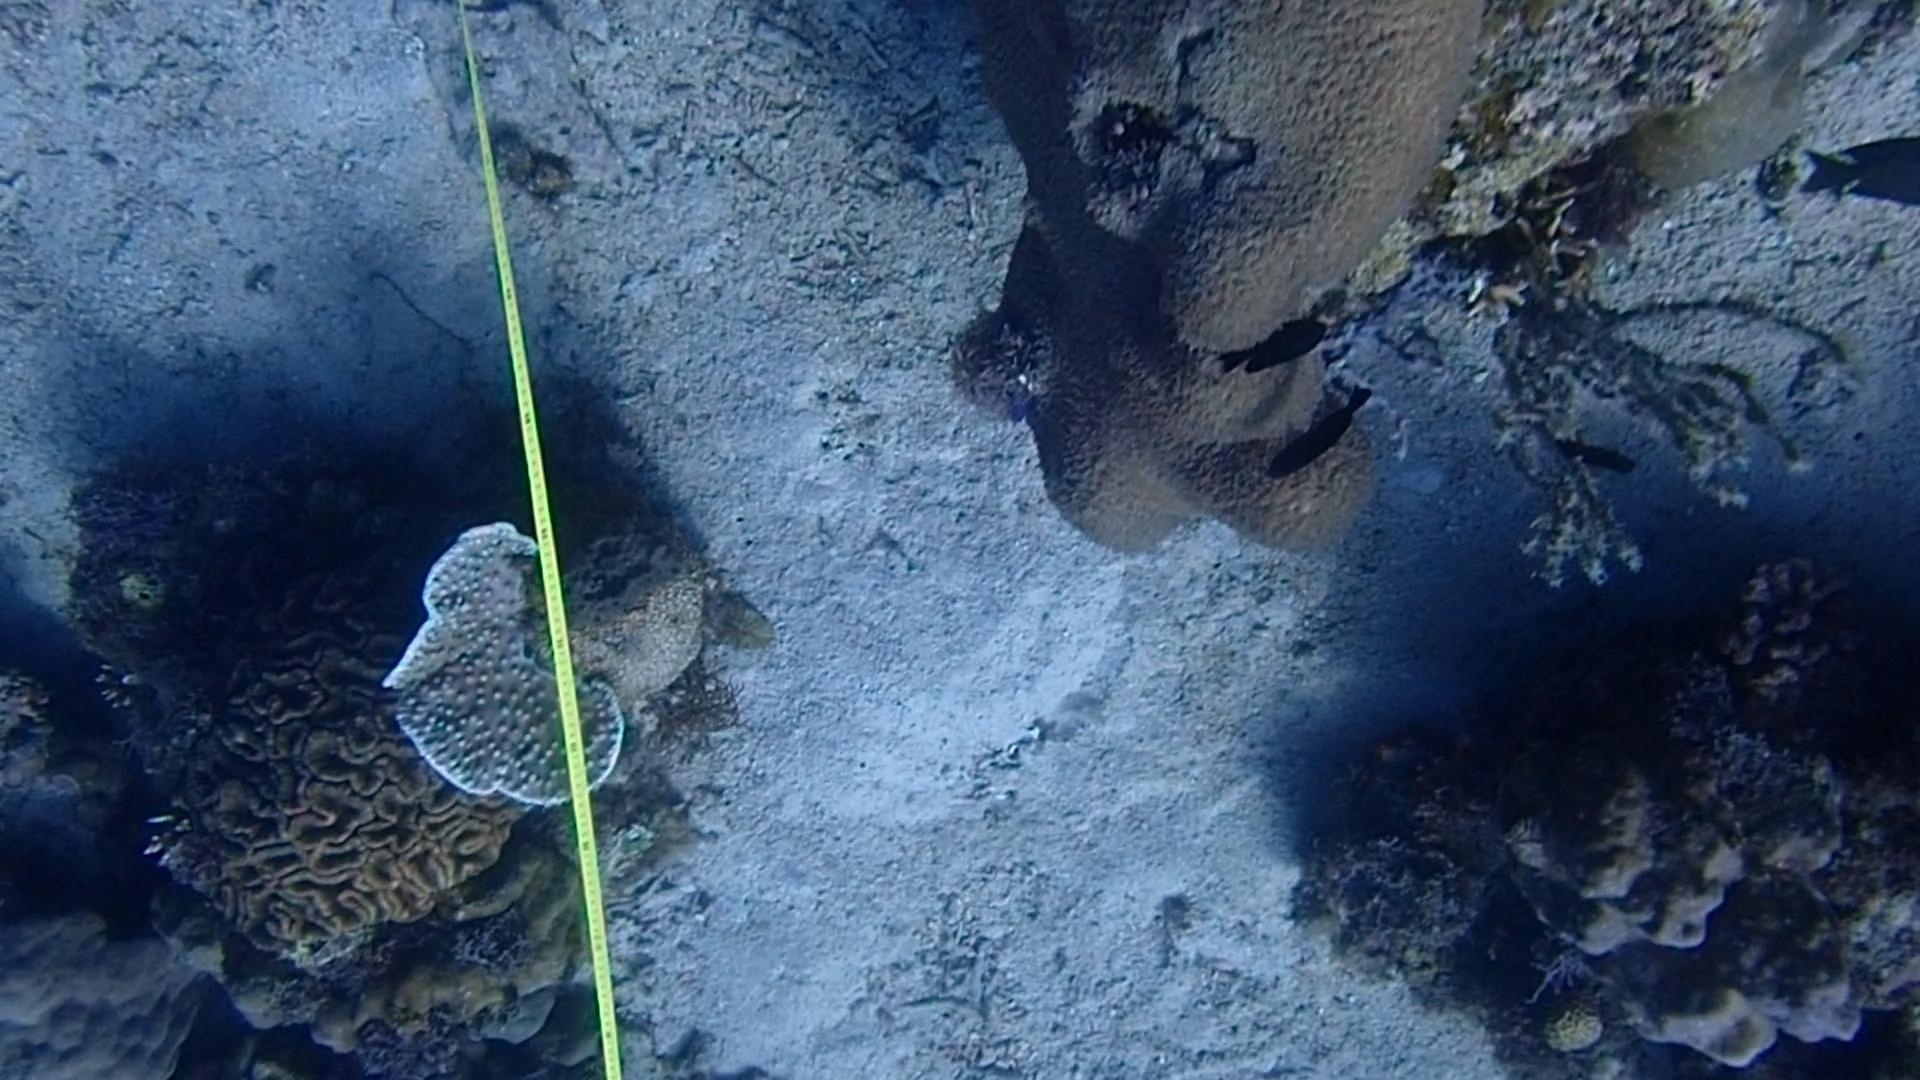Dark Fish: (1266, 392, 1408, 481), (1207, 311, 1354, 396), (1543, 431, 1652, 491)
